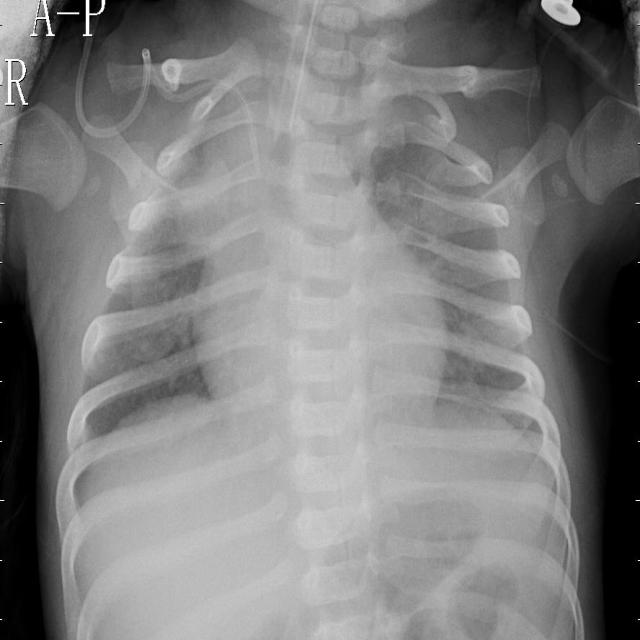high-pneumonia: (167, 55, 259, 249)
low-pneumonia: (381, 139, 462, 273), (429, 362, 523, 438)
